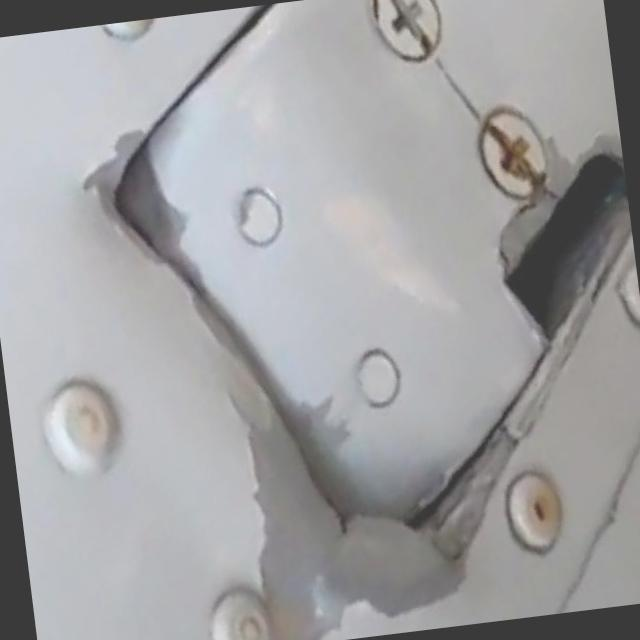crack: (414, 39, 490, 128)
